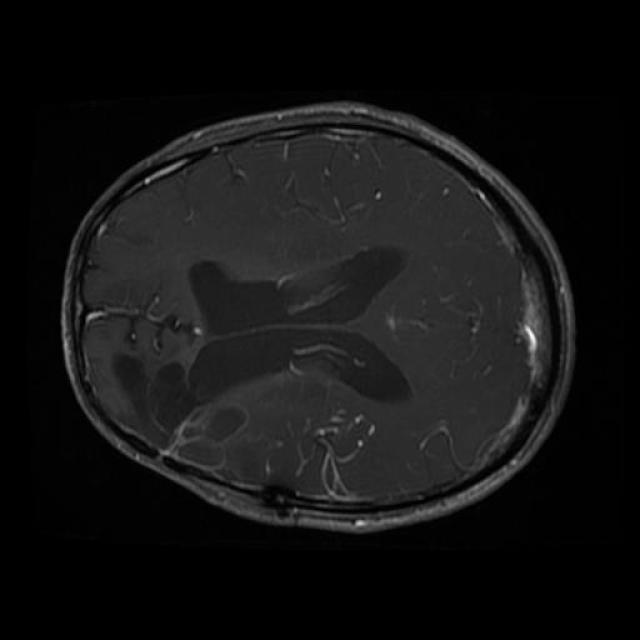Glioma: (116, 355, 236, 465)
